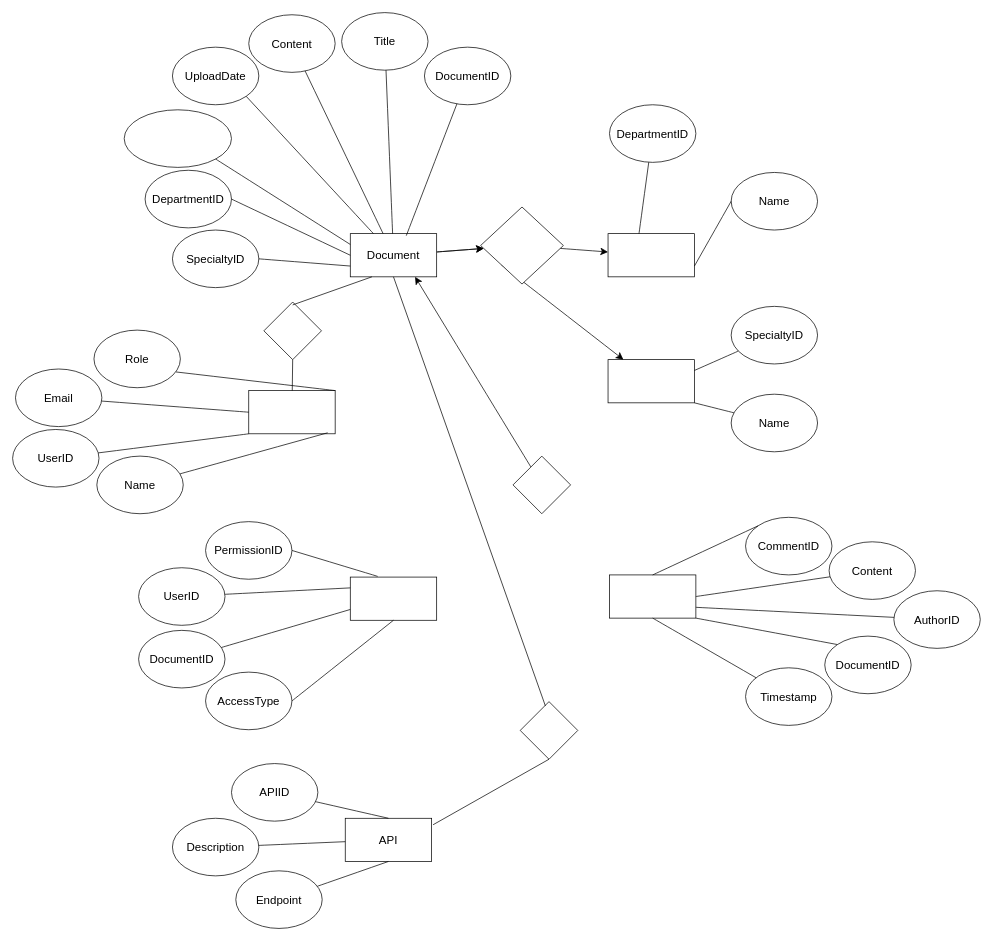
The diagram is 993 pixels wide and 941 high, and some of its shapes have lost their labels. Here are the shapes that lost their labels. From the top down, the centre of each, then its label:
At point (177, 138): "LastModifiedDate".
At point (521, 245): "categorize".
At point (650, 255): "Department".
At point (292, 330): "receive".
At point (650, 381): "Specialty".
At point (291, 412): "Faculty members".
At point (541, 484): "have".
At point (393, 598): "Permission".
At point (652, 596): "Comment".
At point (548, 730): "accessed".
